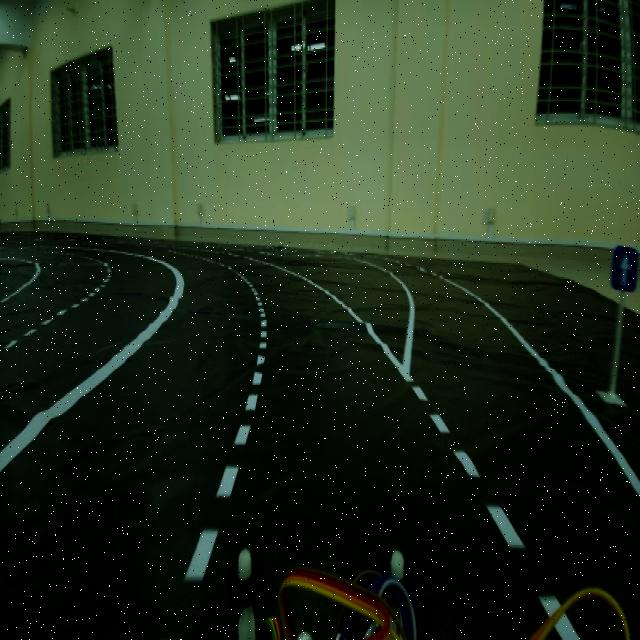onewayroad: (606, 225, 640, 301)
